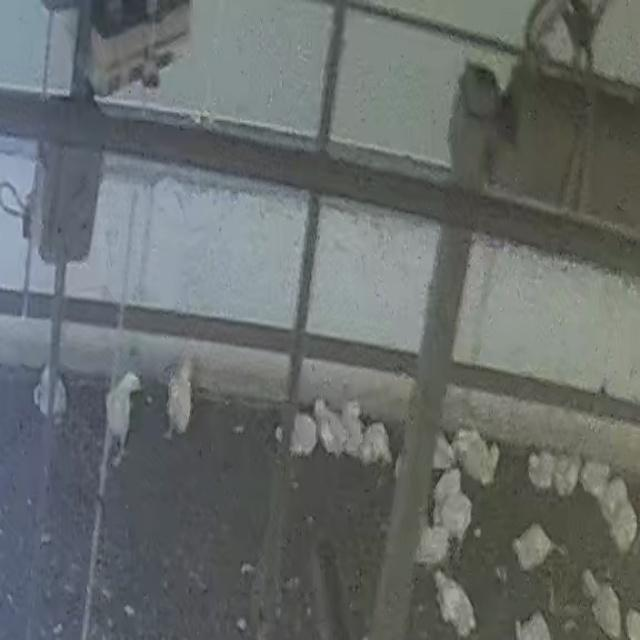chicken: (103, 373, 145, 461), (429, 570, 473, 633), (583, 567, 621, 636), (164, 361, 195, 439), (456, 436, 502, 487), (515, 518, 554, 576), (35, 361, 69, 424), (410, 523, 450, 567), (274, 418, 316, 459), (354, 425, 394, 468), (442, 492, 473, 545), (337, 403, 364, 461), (601, 474, 630, 528), (581, 459, 614, 506), (313, 399, 340, 455), (423, 433, 459, 475), (431, 471, 461, 521), (609, 508, 635, 554), (553, 456, 580, 498), (513, 613, 553, 640), (527, 455, 552, 494)
